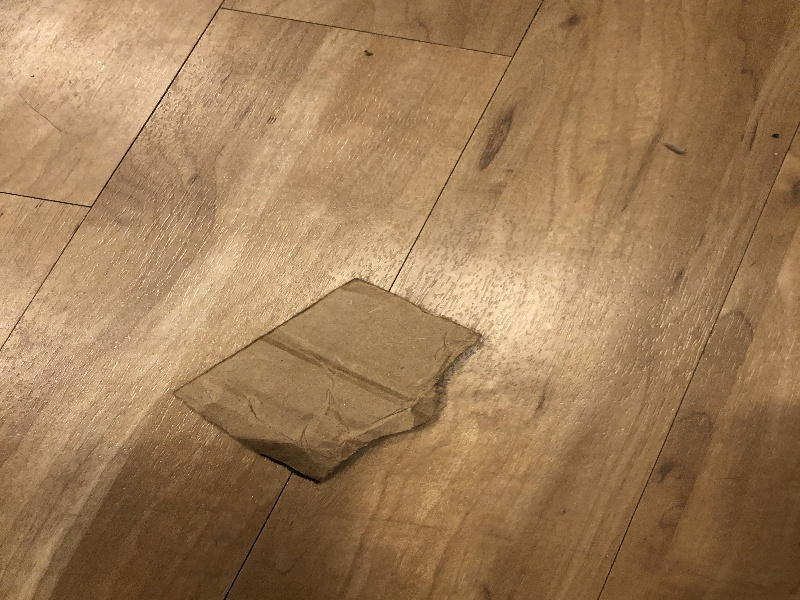cardboard: (172, 270, 499, 485)
